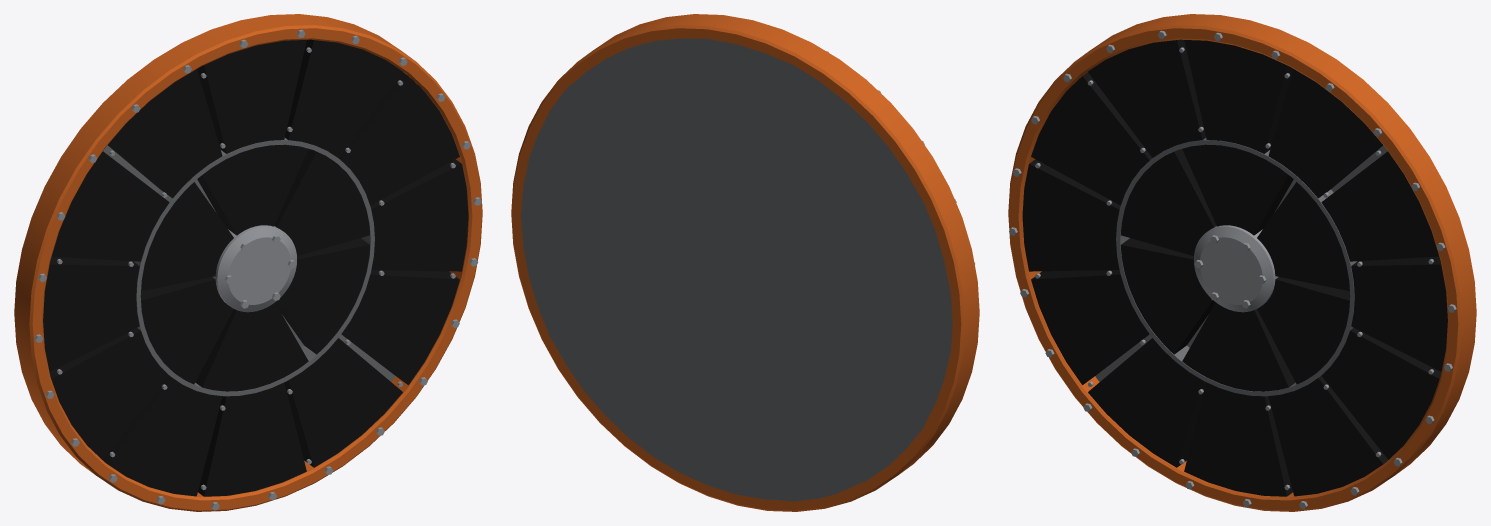
Rendered from engine_hot_emitter_annulus.obj.
The picture shows the model from 3 angles, left to right: view 1: azimuth 30°, elevation 25°; view 2: azimuth 150°, elevation 25°; view 3: azimuth 330°, elevation 25°; orthographic projection.
Parts seen in each view (by area): view 1: engine_hot_emitter_annulus; view 2: engine_hot_emitter_annulus; view 3: engine_hot_emitter_annulus.
Part boxes in pixels (<box>): engine_hot_emitter_annulus: <box>14,14,482,511</box>; engine_hot_emitter_annulus: <box>511,14,979,511</box>; engine_hot_emitter_annulus: <box>1008,14,1476,511</box>.
Size of the model in its own units: 4.32 by 4.32 by 0.36.
